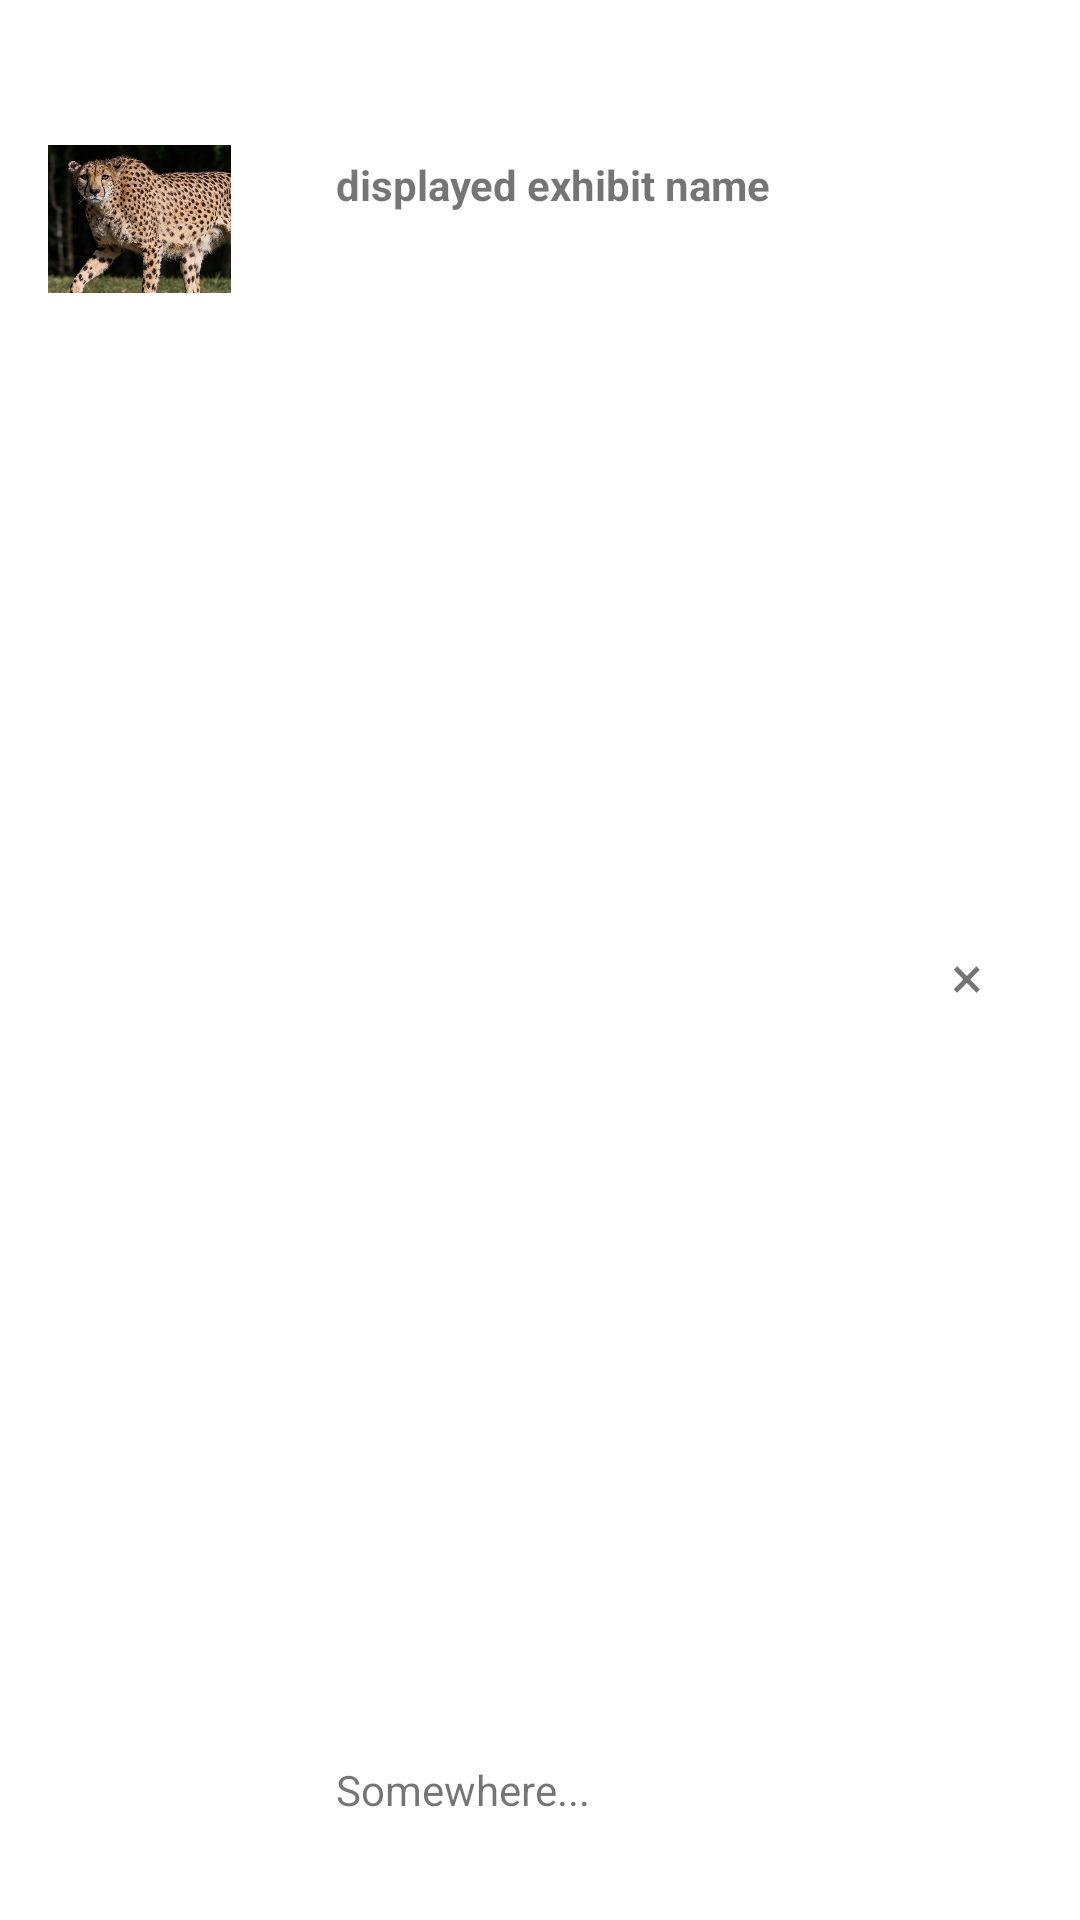

Icon bounding boxes for this 1080px x 1920px phone screenshot, format (x1, y1, x2, y2):
cheetah: (48, 145, 231, 293)
